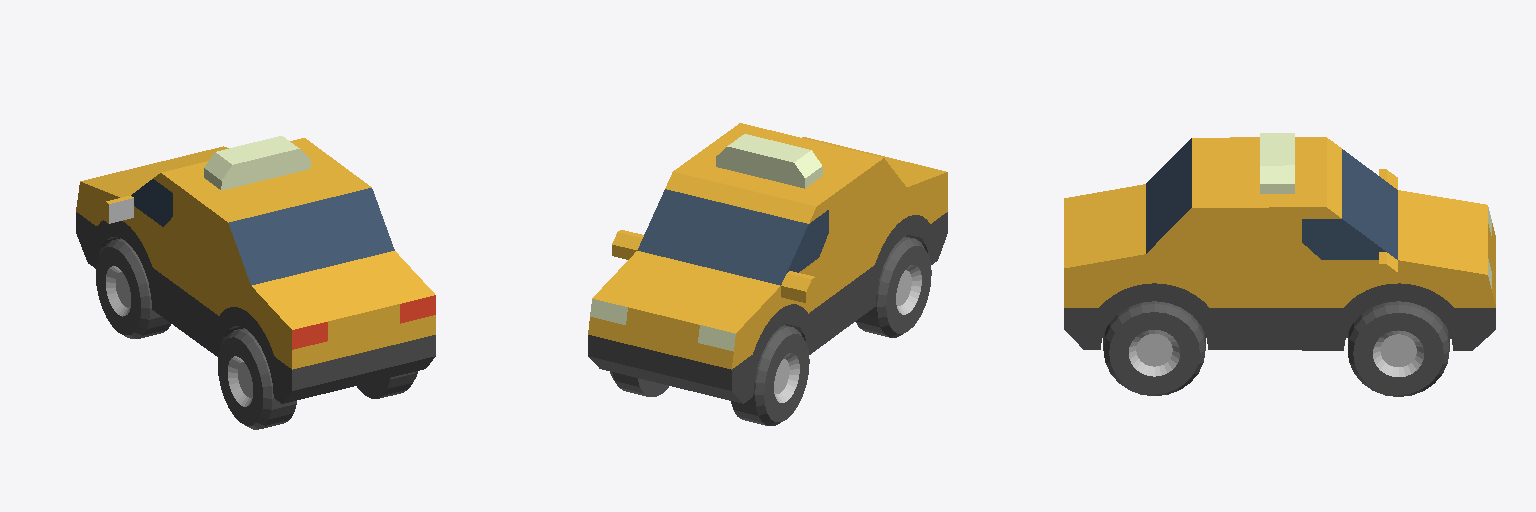
The model's file is carTaxi.obj.
The picture shows the model from 3 angles: view 1: azimuth 30°, elevation 25°; view 2: azimuth 150°, elevation 25°; view 3: azimuth 270°, elevation 25°; orthographic projection.
Visible parts, largest first — view 1: body 10, wheelBackLeft 10, wheelFrontLeft 10, wheelBackRight 10; view 2: body 10, wheelFrontLeft 10, wheelBackLeft 10, wheelFrontRight 10; view 3: body 10, wheelFrontRight 10, wheelBackRight 10.
Boxes of the visible parts, <box> form: body 10: <box>76,136,435,403</box>; wheelBackLeft 10: <box>218,328,296,429</box>; wheelFrontLeft 10: <box>96,238,170,338</box>; wheelBackRight 10: <box>357,371,417,398</box>; body 10: <box>588,123,947,403</box>; wheelFrontLeft 10: <box>731,325,809,425</box>; wheelBackLeft 10: <box>855,236,931,337</box>; wheelFrontRight 10: <box>610,371,668,396</box>; body 10: <box>1064,133,1495,350</box>; wheelFrontRight 10: <box>1348,301,1449,396</box>; wheelBackRight 10: <box>1103,301,1205,395</box>.
Bounding box in the file's own units: 9.84 × 10.34 × 18.96.